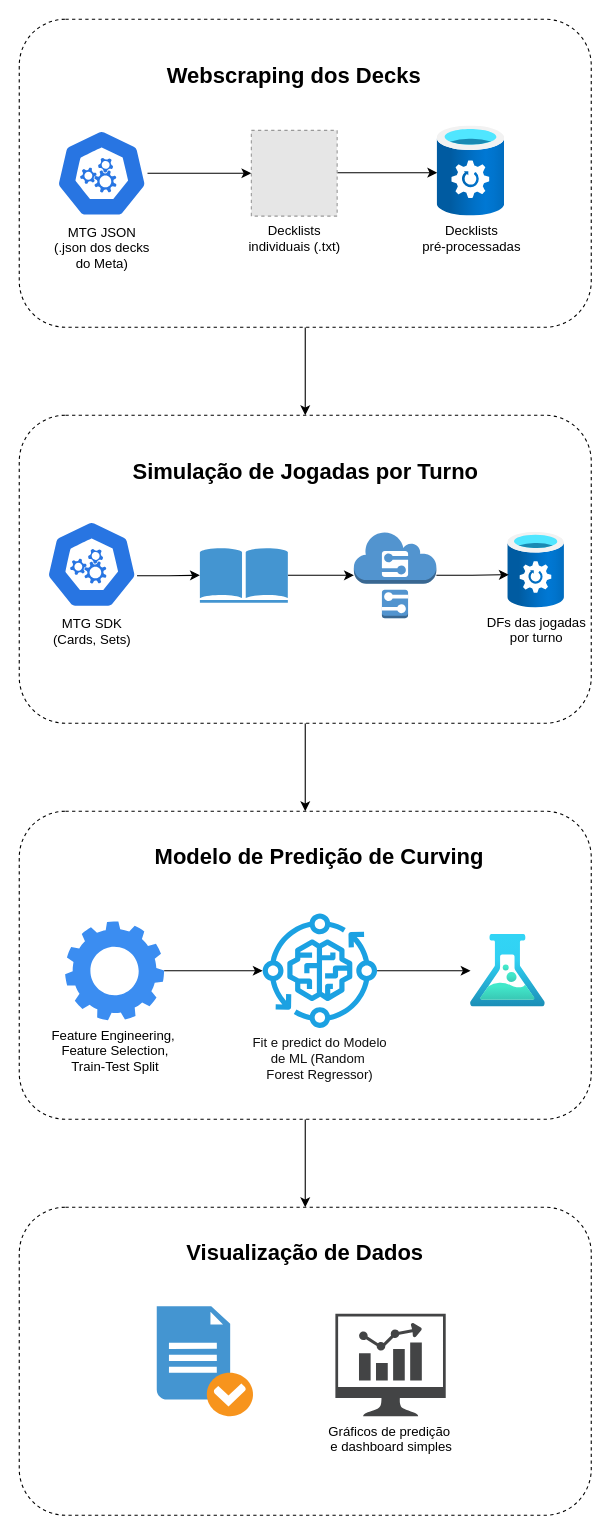
This 611x1535 diagram has some shape labels left out. Grey dashed boxes stand in for pictures. Here are the shapes that lost their labels. From the top down, the box of each, then its label:
(199, 547, 287, 602): Expansão da Lib com novas classes (Player, Hand, etc.)
(353, 531, 436, 618): Simulação de váras matches para diversos players-decks
(470, 934, 545, 1007): Avaliação dos casos de teste e métricas de erro
(156, 1306, 252, 1416): Documentação Detalhada
